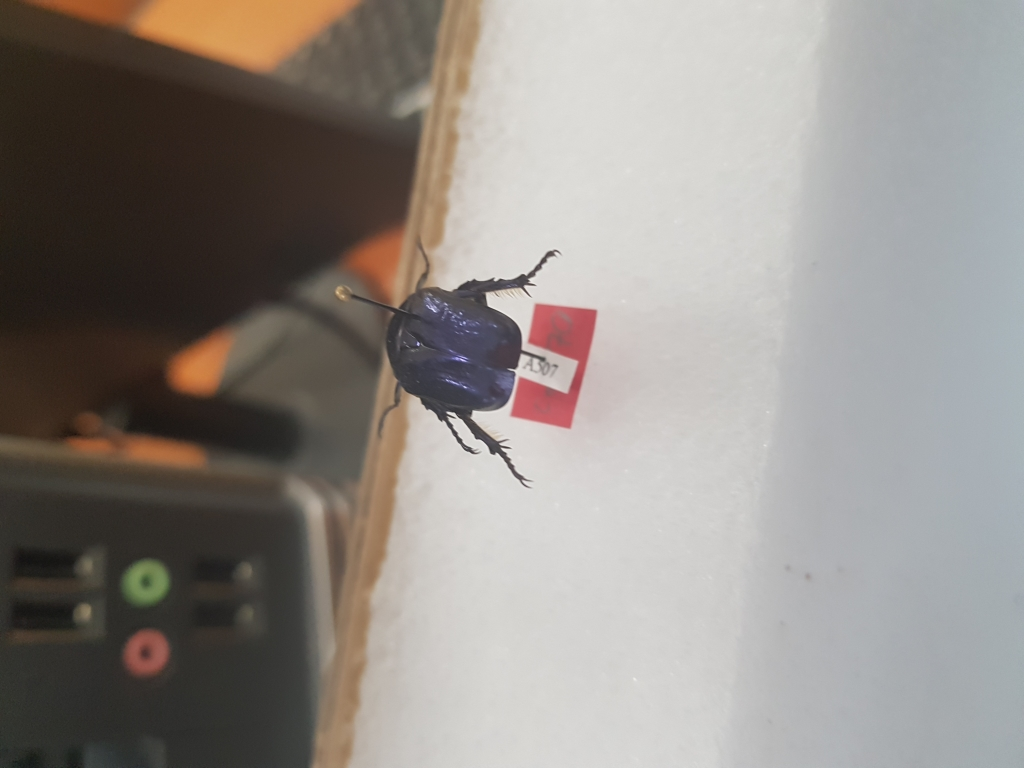Protaetia_besucheti: (367, 224, 574, 493)
